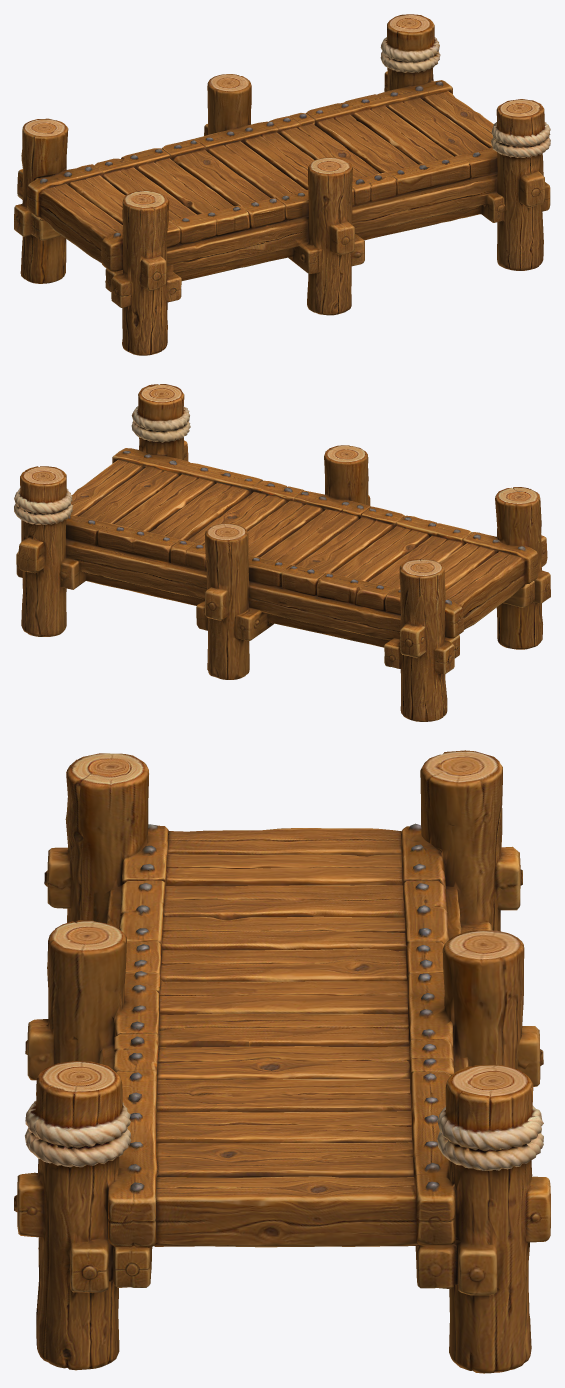
Rendered from compact.glb.
3 views of the same model, one above another, from view 1: azimuth 30°, elevation 25°; view 2: azimuth 150°, elevation 25°; view 3: azimuth 270°, elevation 25° (orthographic). The views are drawn at different scales.
Visible parts, largest first — view 1: tripo_node_965d1abd-d95b-4c68-96bc-6e693e5e8301; view 2: tripo_node_965d1abd-d95b-4c68-96bc-6e693e5e8301; view 3: tripo_node_965d1abd-d95b-4c68-96bc-6e693e5e8301.
Part boxes in pixels (x1,y1,x2,y2): tripo_node_965d1abd-d95b-4c68-96bc-6e693e5e8301: (14, 14, 550, 355); tripo_node_965d1abd-d95b-4c68-96bc-6e693e5e8301: (14, 384, 550, 721); tripo_node_965d1abd-d95b-4c68-96bc-6e693e5e8301: (14, 750, 550, 1373).
Size of the model in its own units: 1 by 0.343 by 0.6021.
1 material, 1 textured.
